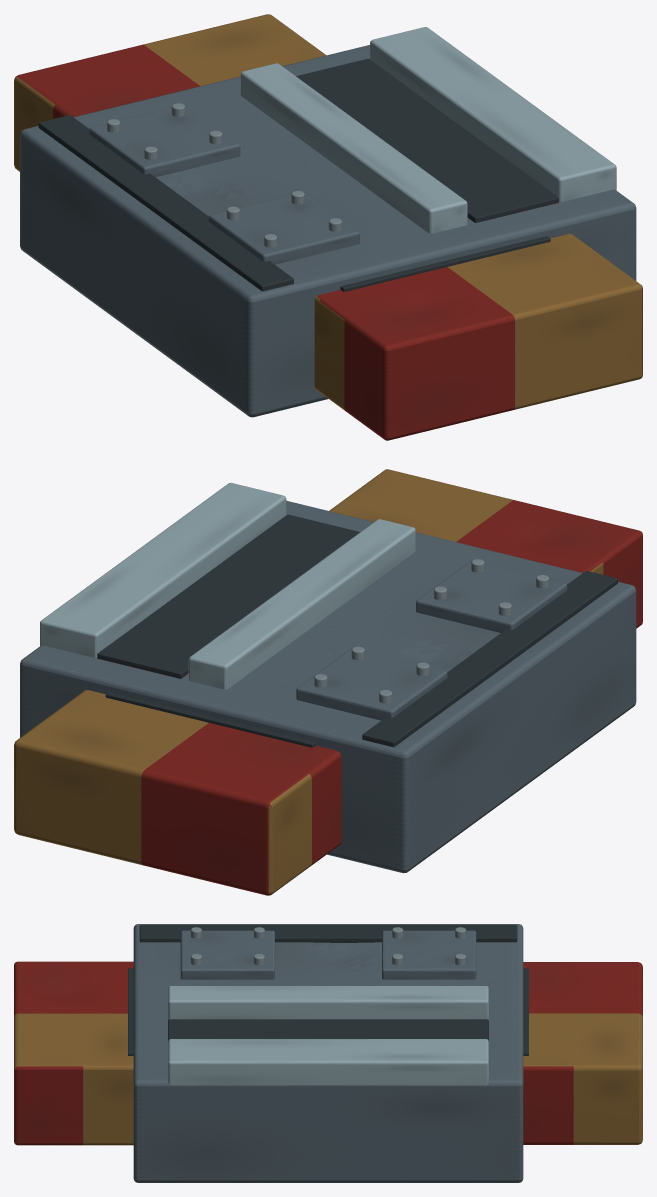
3 views of the same model, one above another, from view 1: azimuth 30°, elevation 25°; view 2: azimuth 150°, elevation 25°; view 3: azimuth 270°, elevation 25° (orthographic). The views are drawn at different scales.
Visible parts, largest first — view 1: Mauna Lightning Unit central casing, Mauna Lightning Unit forward terminal, Mauna Lightning Unit rear terminal, Mauna Lightning Unit pale outer rail, Mauna Lightning Unit dark inset floor 0, Mauna Lightning Unit pale side spine, Mauna Lightning Unit dark longitudinal field, Mauna Lightning Unit service cover 1, Mauna Lightning Unit service cover 0, Mauna Lightning Unit forward terminal seam; view 2: Mauna Lightning Unit central casing, Mauna Lightning Unit rear terminal, Mauna Lightning Unit forward terminal, Mauna Lightning Unit pale outer rail, Mauna Lightning Unit dark inset floor 0, Mauna Lightning Unit pale side spine, Mauna Lightning Unit dark longitudinal field, Mauna Lightning Unit service cover 1, Mauna Lightning Unit service cover 0, Mauna Lightning Unit rear terminal seam; view 3: Mauna Lightning Unit central casing, Mauna Lightning Unit forward terminal, Mauna Lightning Unit rear terminal, Mauna Lightning Unit pale outer rail, Mauna Lightning Unit pale side spine, Mauna Lightning Unit dark inset floor 0, Mauna Lightning Unit dark longitudinal field, Mauna Lightning Unit service cover 0, Mauna Lightning Unit service cover 1, Mauna Lightning Unit forward terminal seam, Mauna Lightning Unit rear terminal seam.
Part boxes in pixels (x1,y1,x2,y2): Mauna Lightning Unit central casing: [20, 45, 636, 417]; Mauna Lightning Unit forward terminal: [314, 233, 642, 440]; Mauna Lightning Unit rear terminal: [14, 14, 326, 171]; Mauna Lightning Unit pale outer rail: [370, 27, 616, 201]; Mauna Lightning Unit dark inset floor 0: [296, 58, 558, 222]; Mauna Lightning Unit pale side spine: [240, 63, 467, 233]; Mauna Lightning Unit dark longitudinal field: [38, 115, 293, 291]; Mauna Lightning Unit service cover 1: [89, 105, 240, 177]; Mauna Lightning Unit service cover 0: [209, 192, 359, 264]; Mauna Lightning Unit forward terminal seam: [340, 236, 550, 291]; Mauna Lightning Unit central casing: [20, 500, 636, 873]; Mauna Lightning Unit rear terminal: [14, 690, 341, 895]; Mauna Lightning Unit forward terminal: [329, 469, 642, 628]; Mauna Lightning Unit pale outer rail: [40, 482, 286, 657]; Mauna Lightning Unit dark inset floor 0: [97, 514, 360, 678]; Mauna Lightning Unit pale side spine: [188, 519, 415, 689]; Mauna Lightning Unit dark longitudinal field: [362, 571, 617, 747]; Mauna Lightning Unit service cover 1: [296, 648, 447, 720]; Mauna Lightning Unit service cover 0: [416, 560, 567, 632]; Mauna Lightning Unit rear terminal seam: [105, 692, 315, 747]; Mauna Lightning Unit central casing: [133, 924, 523, 1182]; Mauna Lightning Unit forward terminal: [14, 961, 133, 1145]; Mauna Lightning Unit rear terminal: [523, 962, 642, 1144]; Mauna Lightning Unit pale outer rail: [168, 1039, 488, 1085]; Mauna Lightning Unit pale side spine: [168, 986, 488, 1019]; Mauna Lightning Unit dark inset floor 0: [168, 1019, 488, 1041]; Mauna Lightning Unit dark longitudinal field: [139, 925, 517, 942]; Mauna Lightning Unit service cover 0: [180, 930, 274, 979]; Mauna Lightning Unit service cover 1: [382, 930, 476, 979]; Mauna Lightning Unit forward terminal seam: [128, 968, 133, 1055]; Mauna Lightning Unit rear terminal seam: [523, 968, 528, 1055].
Size of the model in its own units: 1.2 by 0.4425 by 2.
Materials: 5 (3 with a texture image).
